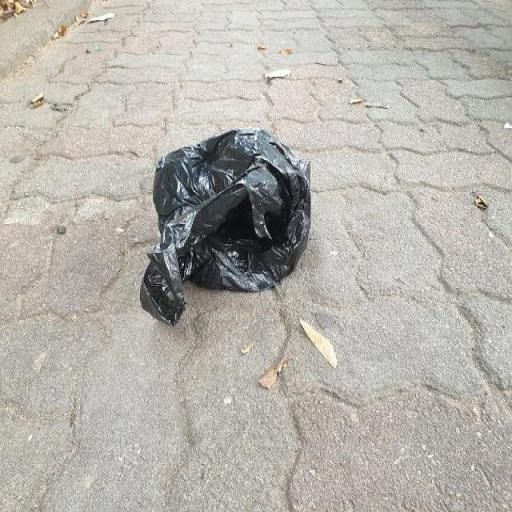plastic-bag: (136, 125, 313, 331)
